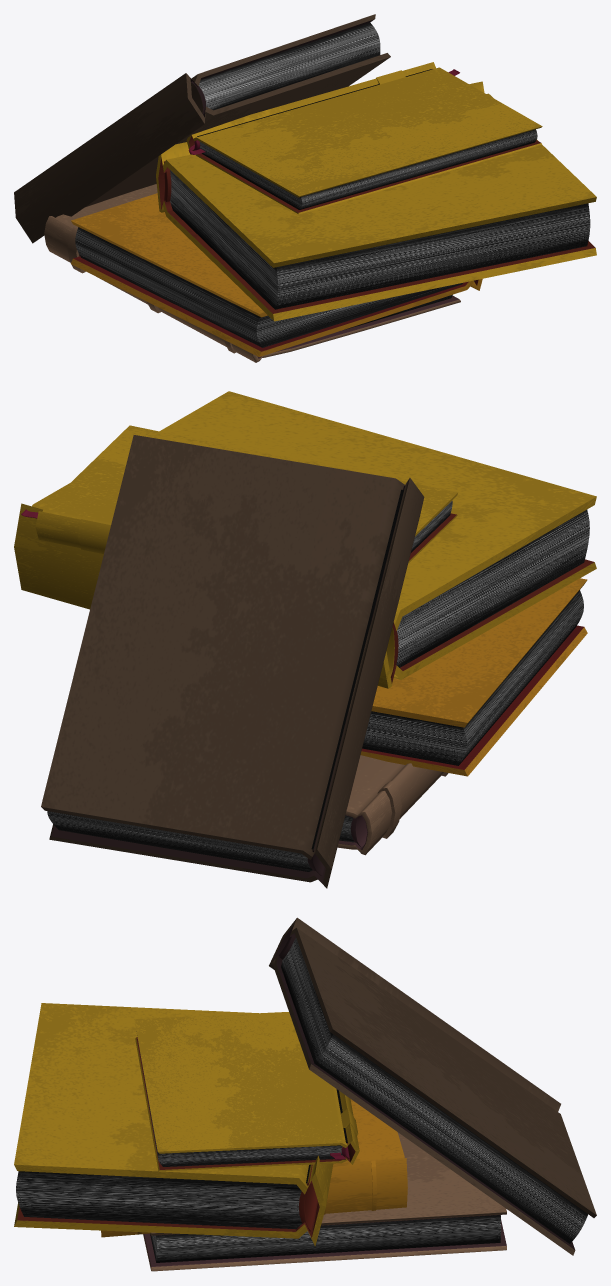
Rendered from LargeBookStack.fbx.
3 views of the same model, one above another, from view 1: azimuth 30°, elevation 25°; view 2: azimuth 150°, elevation 25°; view 3: azimuth 270°, elevation 25° (orthographic). The views are drawn at different scales.
Visible parts, largest first — view 1: pCube124, pCube13, pages44, pCube68, pCube15, pages11, pages8, pages12, pCube71; view 2: pCube68, pCube124, pCube15, pages44, pCube13, pages11, pages8, pCube71, spine40; view 3: pCube68, pCube124, pCube13, pages8, pages44, pCube71, pages13, pCube15, pages12, spine38.
Part boxes in pixels (x1=…): pCube124: x1=156, y1=81, x2=596, y2=321; pCube13: x1=186, y1=62, x2=542, y2=214; pages44: x1=170, y1=170, x2=590, y2=309; pCube68: x1=14, y1=14, x2=390, y2=243; pCube15: x1=71, y1=193, x2=482, y2=356; pages11: x1=75, y1=227, x2=462, y2=347; pages8: x1=198, y1=22, x2=380, y2=110; pages12: x1=197, y1=69, x2=537, y2=209; pCube71: x1=44, y1=184, x2=460, y2=362; pCube68: x1=41, y1=435, x2=424, y2=888; pCube124: x1=14, y1=391, x2=596, y2=688; pCube15: x1=360, y1=578, x2=587, y2=776; pages44: x1=396, y1=509, x2=589, y2=667; pCube13: x1=35, y1=425, x2=457, y2=562; pages11: x1=362, y1=590, x2=583, y2=765; pages8: x1=47, y1=489, x2=403, y2=871; pCube71: x1=337, y1=755, x2=448, y2=855; spine40: x1=307, y1=486, x2=405, y2=875; pCube68: x1=269, y1=917, x2=596, y2=1255; pCube124: x1=14, y1=1003, x2=333, y2=1246; pCube13: x1=134, y1=1012, x2=359, y2=1172; pages8: x1=281, y1=938, x2=587, y2=1243; pages44: x1=16, y1=1164, x2=310, y2=1229; pCube71: x1=143, y1=1132, x2=506, y2=1271; pages13: x1=150, y1=1215, x2=501, y2=1262; pCube15: x1=101, y1=1099, x2=407, y2=1237; pages12: x1=136, y1=1031, x2=347, y2=1166; spine38: x1=298, y1=1164, x2=316, y2=1231.
Bounding box in the file's own units: 1.11 × 0.6578 × 1.35.
